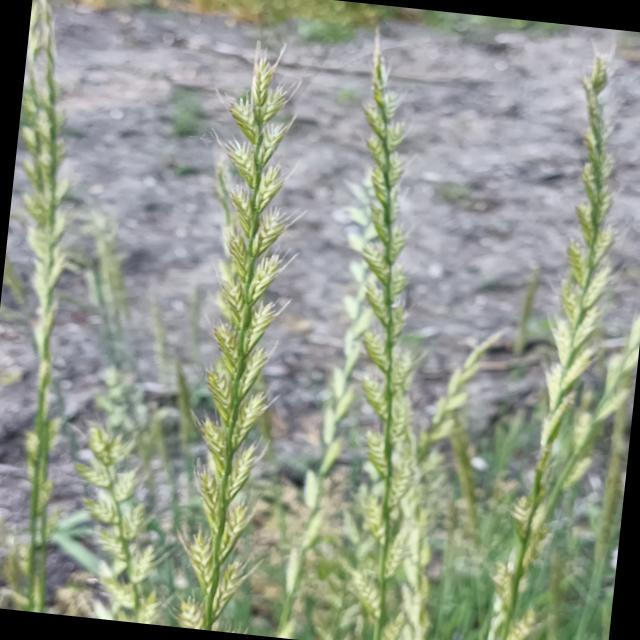Lolium: (0, 0, 197, 622), (298, 42, 475, 640), (156, 33, 326, 634), (472, 54, 640, 640)
